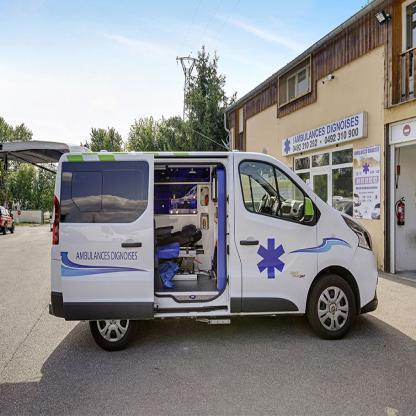Ambulance - v1 Ambulance last generate: (41, 139, 392, 355)
